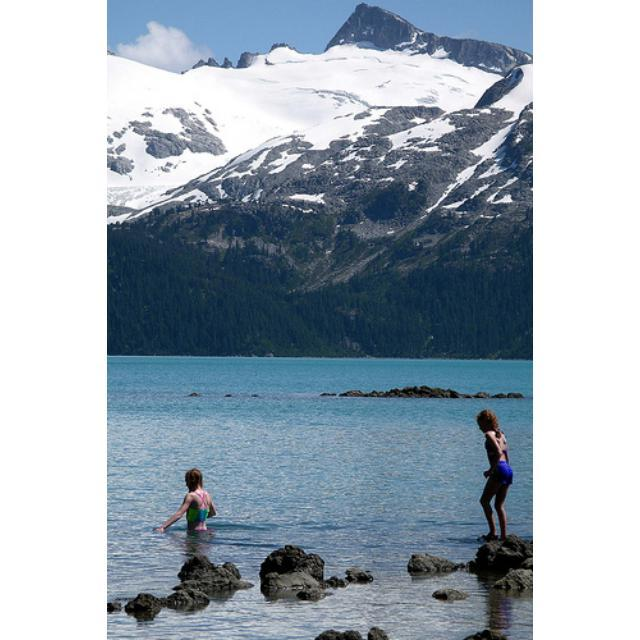human: (473, 409, 512, 540), (157, 465, 217, 539)
